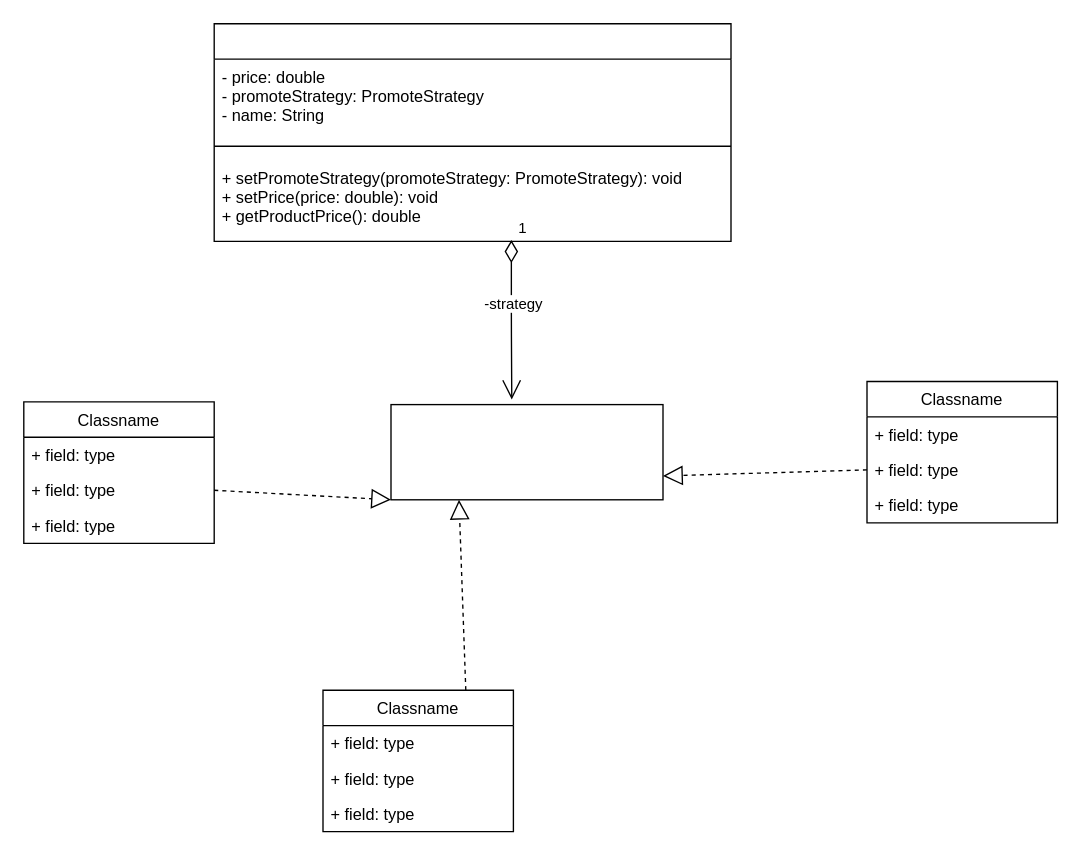
Some shapes in this 1081 by 860 pixel diagram are drawn without their labels. The shapes that lost their labels are listed below. From the top down, each one's box as (x1, y1, x2, y2) in pixels, then its label:
(213, 22, 731, 241): Ticket
(390, 403, 663, 500): <<Interface>> PromoteStrategy + doDiscount(price: double): double
